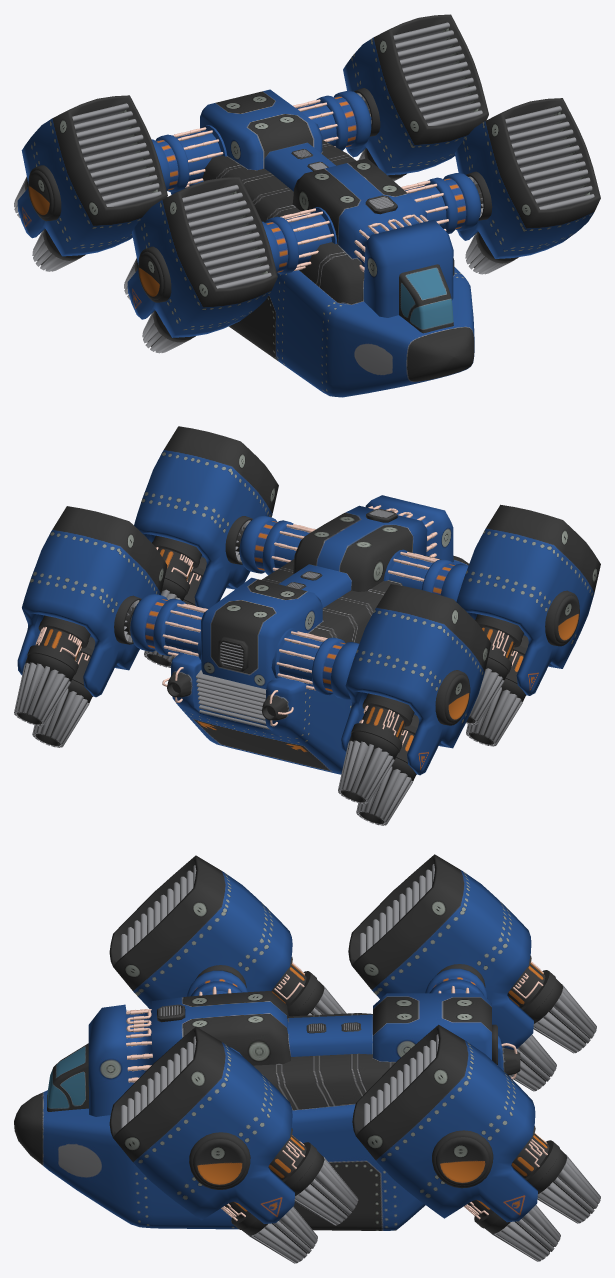
Rendered from dropship.glb.
The picture shows the model from 3 angles, top to bottom: view 1: azimuth 30°, elevation 25°; view 2: azimuth 150°, elevation 25°; view 3: azimuth 270°, elevation 25°; orthographic projection. The views are drawn at different scales.
Parts seen in each view (by area): view 1: dropship_body, engine_final.001, engine_final.003, engine_final, engine_final.002; view 2: dropship_body, engine_final.003, engine_final.002, engine_final.001, engine_final; view 3: dropship_body, engine_final, engine_final.002, engine_final.003, engine_final.001.
Part boxes in pixels (left/top/right/bottom): dropship_body: left=151, top=89, right=480, bottom=397; engine_final.001: left=124, top=177, right=277, bottom=353; engine_final.003: left=14, top=95, right=167, bottom=271; engine_final: left=454, top=98, right=600, bottom=274; engine_final.002: left=343, top=14, right=488, bottom=180; dropship_body: left=130, top=495, right=468, bottom=774; engine_final.003: left=338, top=584, right=491, bottom=825; engine_final.002: left=14, top=506, right=167, bottom=747; engine_final.001: left=456, top=504, right=600, bottom=746; engine_final: left=134, top=426, right=278, bottom=667; dropship_body: left=14, top=968, right=520, bottom=1230; engine_final: left=109, top=1026, right=358, bottom=1263; engine_final.002: left=352, top=1024, right=600, bottom=1261; engine_final.003: left=348, top=854, right=596, bottom=1091; engine_final.001: left=109, top=855, right=346, bottom=1016.
Size of the model in its own units: 5.3 by 2.72 by 5.92.
Materials: 2 (2 with a texture image).
